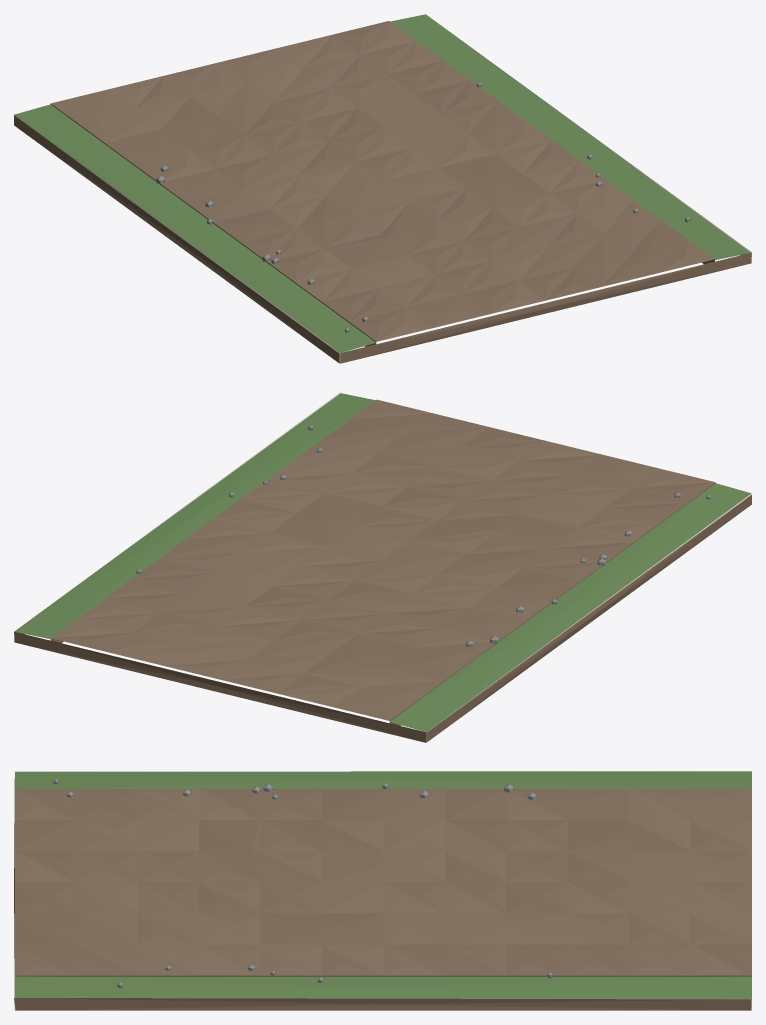
File: dirt_straight.glb
3 renders of one model, top to bottom at view 1: azimuth 30°, elevation 25°; view 2: azimuth 150°, elevation 25°; view 3: azimuth 270°, elevation 25°, orthographic. The views are drawn at different scales.
Parts seen in each view (by area): view 1: Body.006; view 2: Body.006; view 3: Body.006.
Part boxes in pixels (x1,y1,x2,y2): Body.006: [14, 14, 751, 363]; Body.006: [14, 392, 751, 742]; Body.006: [14, 771, 751, 1010].
Size of the model in its own units: 7.3 by 0.315 by 10.
